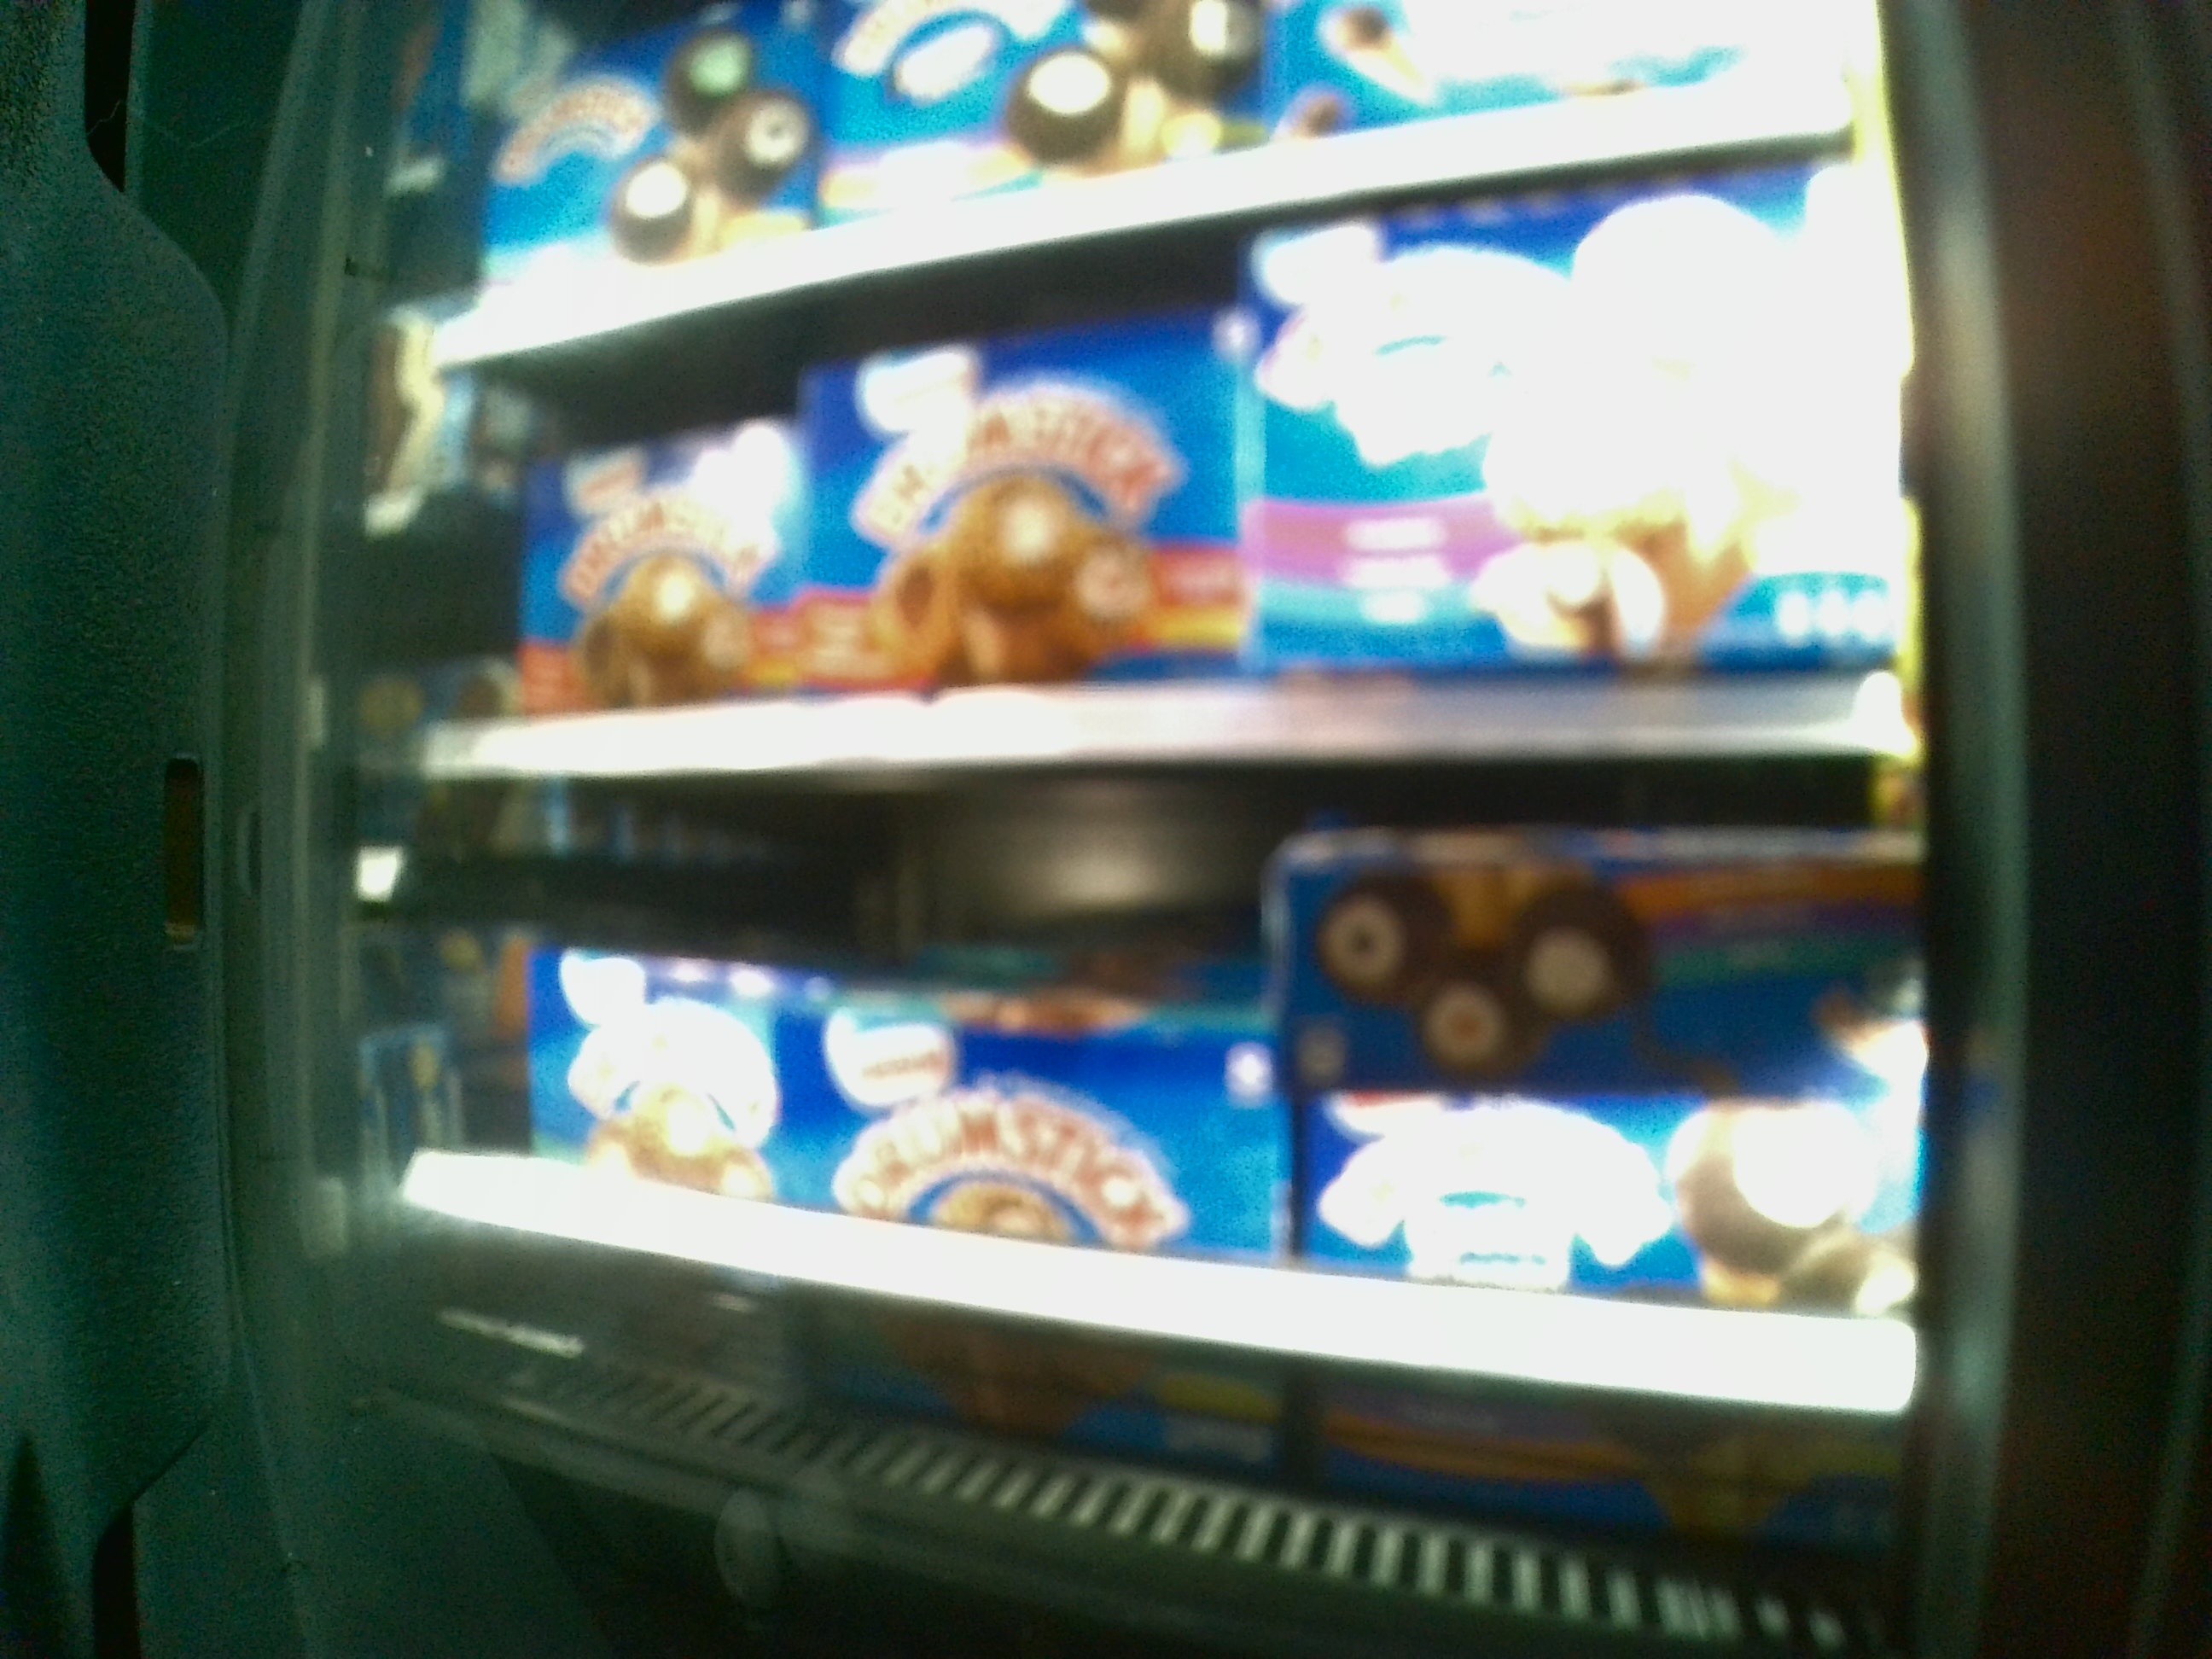shelf: (432, 788, 1902, 1497), (448, 282, 1898, 788)
